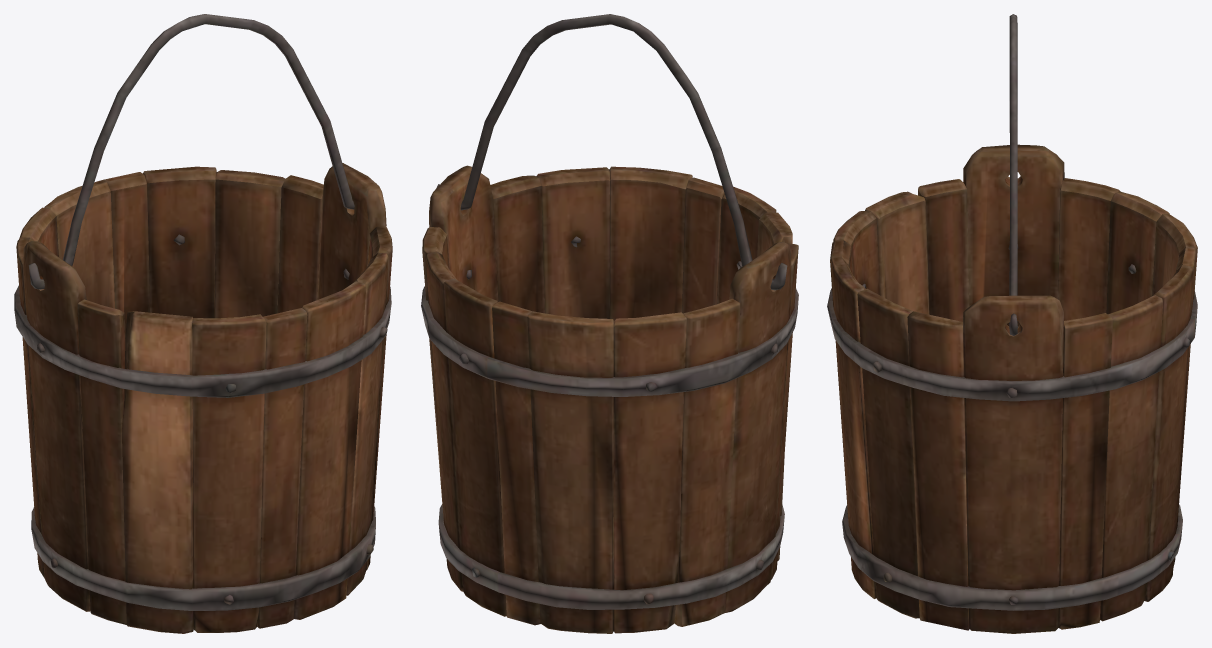
Rendered from bucket.glb.
3 renders of one model, left to right at view 1: azimuth 30°, elevation 25°; view 2: azimuth 150°, elevation 25°; view 3: azimuth 270°, elevation 25°, orthographic.
Parts seen in each view (by area): view 1: wooden_bucket_01; view 2: wooden_bucket_01; view 3: wooden_bucket_01.
Boxes of the visible parts, x1,y1,x2,y2 form: wooden_bucket_01: (14, 14, 392, 633); wooden_bucket_01: (421, 14, 798, 633); wooden_bucket_01: (827, 14, 1197, 633).
Bounding box in the file's own units: 0.3663 × 0.5499 × 0.3419.
Materials: 1 (1 with a texture image).
